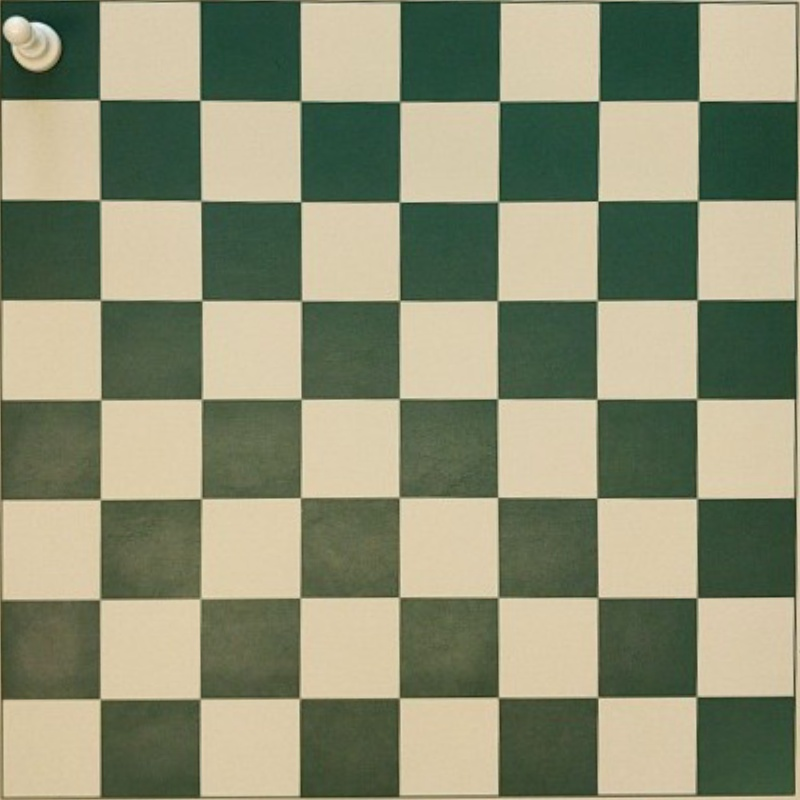white-pawn: (0, 14, 62, 73)
